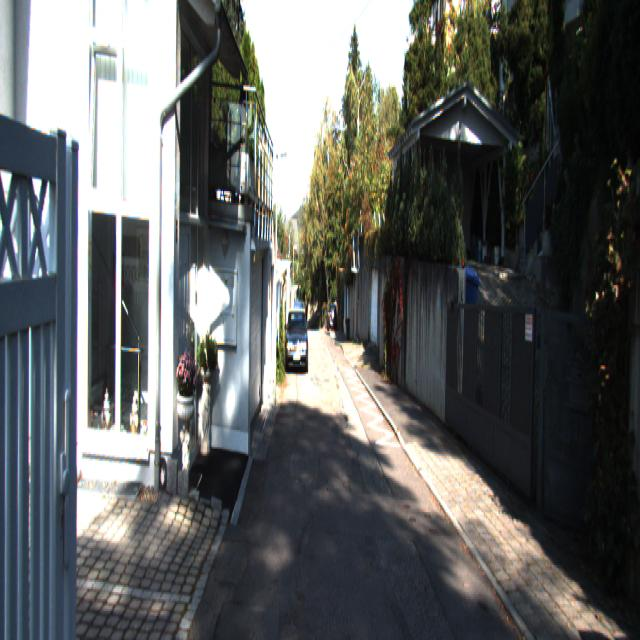Car: (286, 306, 308, 374)
DontCare: (325, 284, 340, 340)
